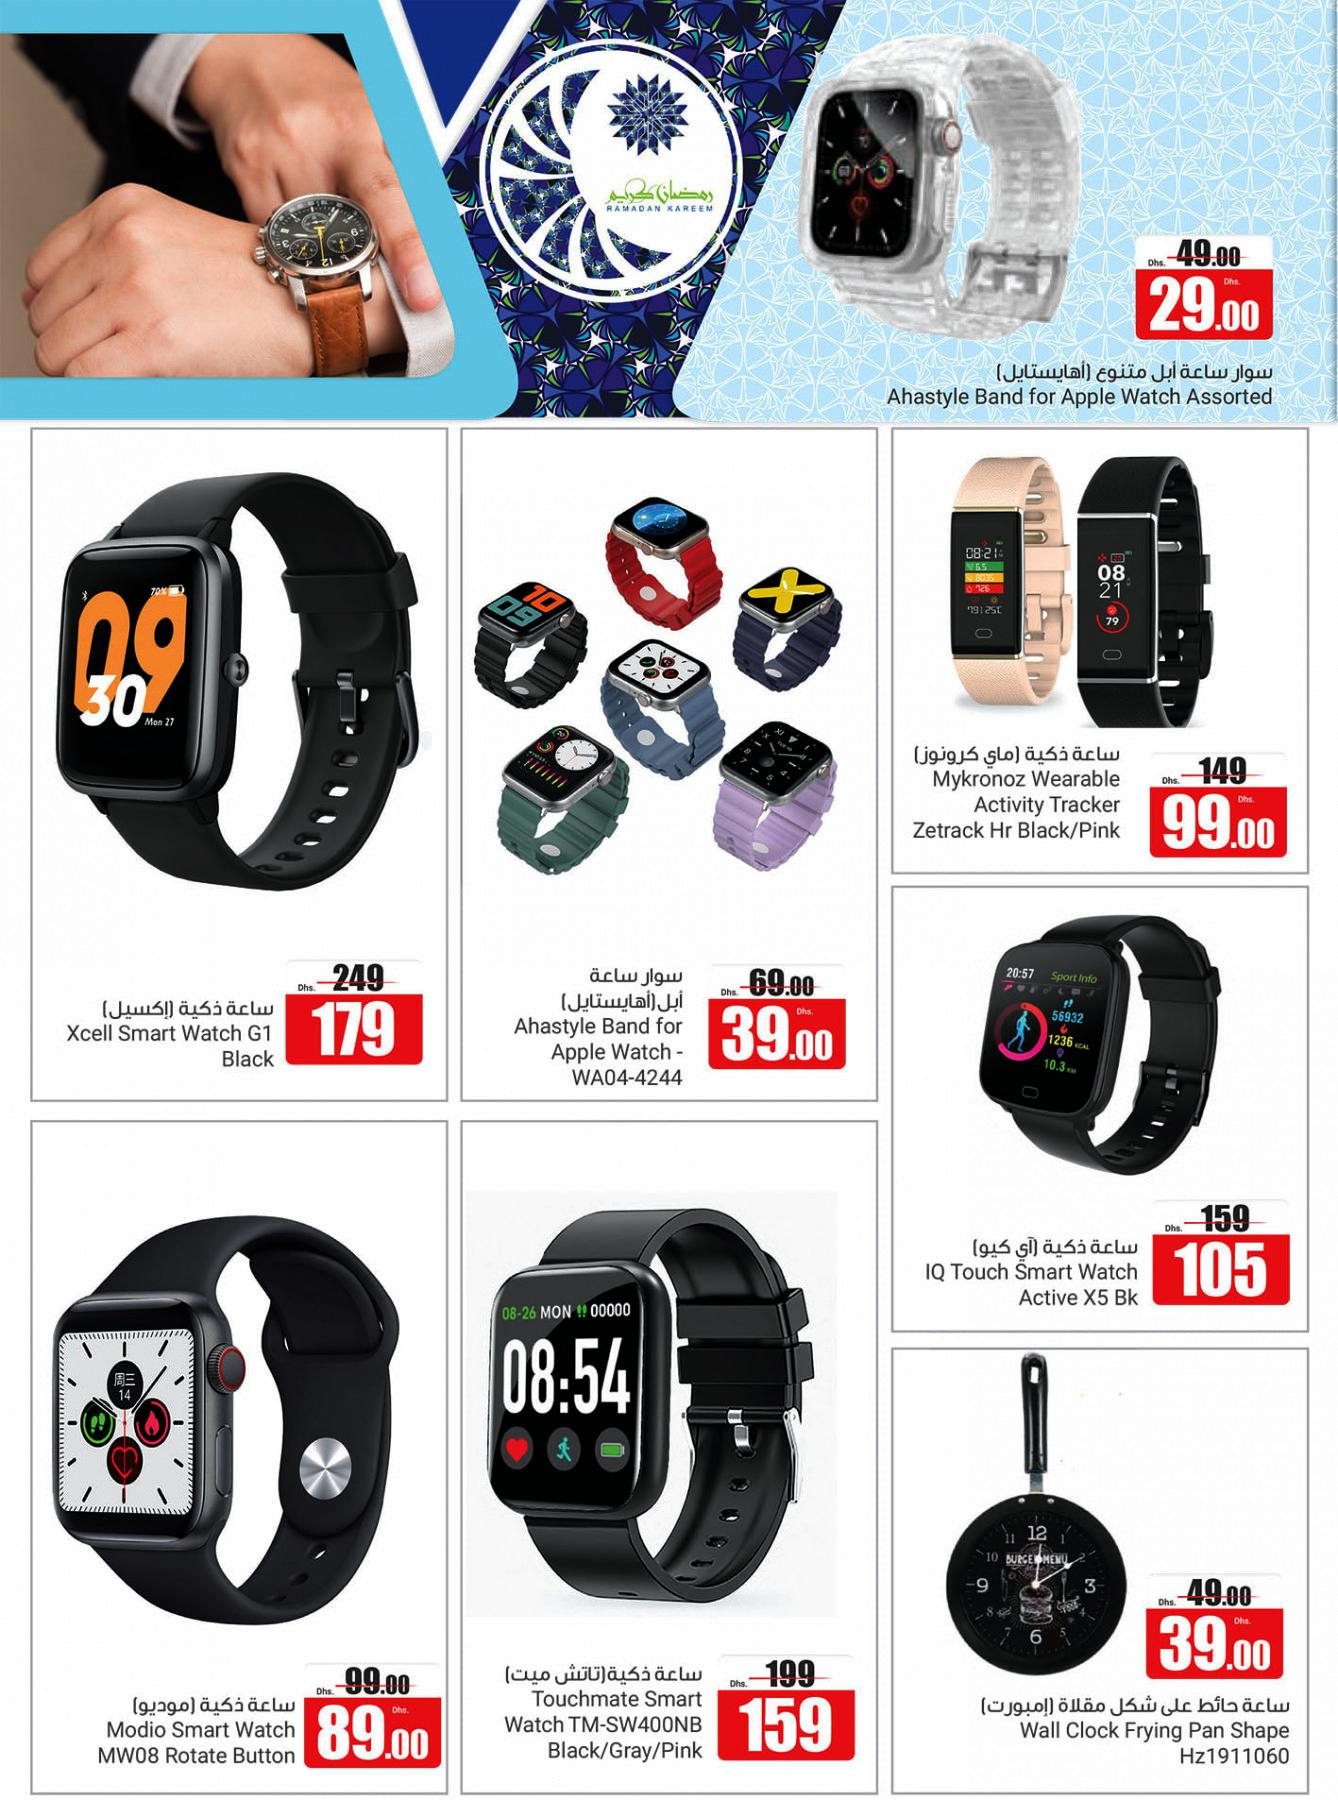text: (970, 1688, 1301, 1780), (902, 728, 1136, 852), (499, 956, 694, 1099), (877, 354, 1299, 419), (488, 1657, 711, 1772), (916, 1228, 1154, 1322), (58, 986, 285, 1078), (89, 1685, 304, 1778)
